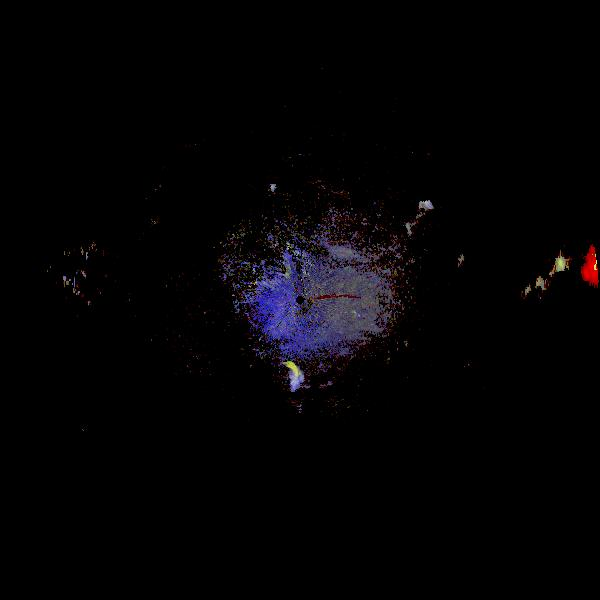roost: (273, 356, 315, 398), (265, 183, 280, 198)
